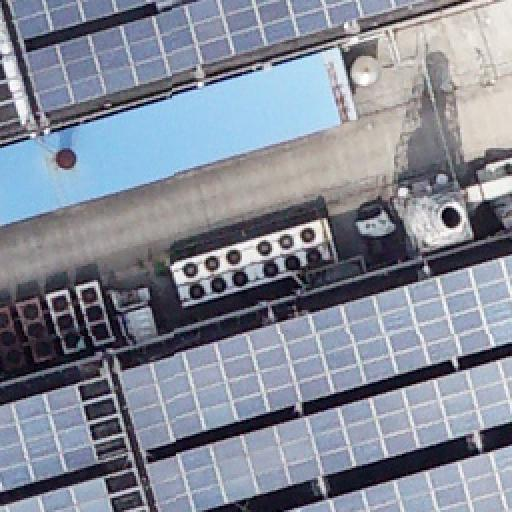solar-panel: (120, 254, 512, 454), (144, 353, 512, 511), (24, 0, 436, 116), (296, 448, 512, 512), (0, 384, 100, 492), (8, 0, 164, 40), (0, 476, 116, 512)
